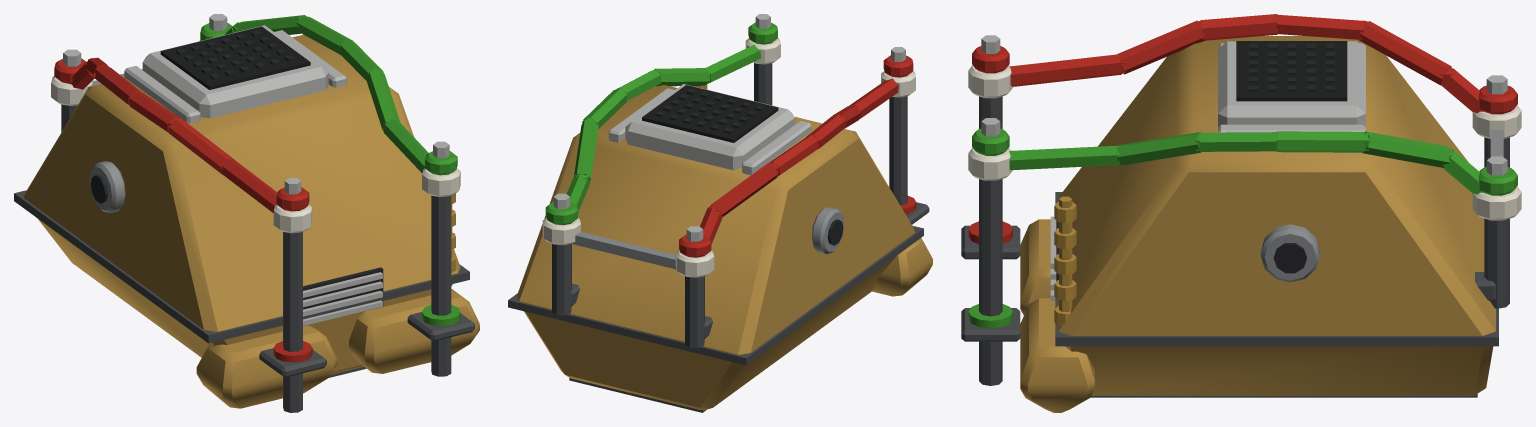
Rendered from decider-combinator.glb.
3 views of the same model, side by side, from view 1: azimuth 30°, elevation 25°; view 2: azimuth 150°, elevation 25°; view 3: azimuth 270°, elevation 25° (orthographic). The views are drawn at different scales.
Visible parts, largest first — view 1: body; view 2: body; view 3: body.
Part boxes in pixels (x1=…): body: x1=14, y1=14, x2=479, y2=412; body: x1=508, y1=14, x2=932, y2=412; body: x1=961, y1=14, x2=1521, y2=412.
Bounding box in the file's own units: 0.985 × 0.866 × 1.52.
